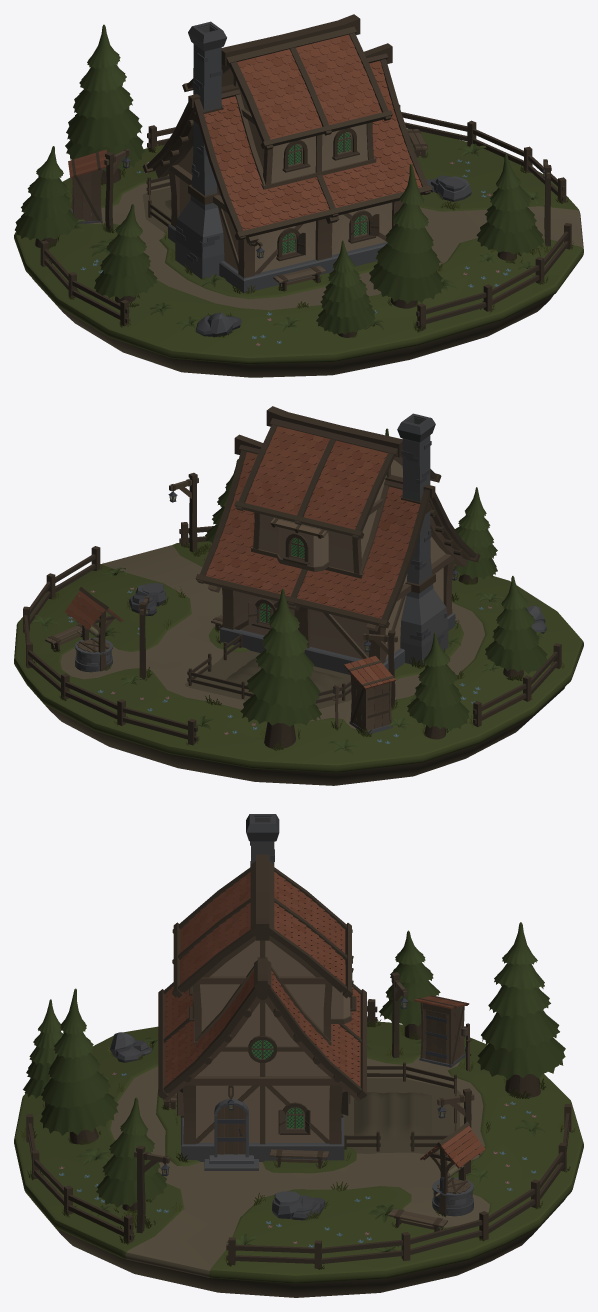
Rendered from stylized_medieval_house.glb.
3 renders of one model, top to bottom at view 1: azimuth 30°, elevation 25°; view 2: azimuth 150°, elevation 25°; view 3: azimuth 270°, elevation 25°, orthographic. The views are drawn at different scales.
Visible parts, largest first — view 1: polySurface13632; view 2: polySurface13632; view 3: polySurface13632.
Boxes of the visible parts, left/top/right/bottom form: polySurface13632: left=14, top=14, right=583, bottom=377; polySurface13632: left=14, top=406, right=583, bottom=785; polySurface13632: left=14, top=814, right=583, bottom=1297.
Bounding box in the file's own units: 0.0678 × 0.0381 × 0.0627.
